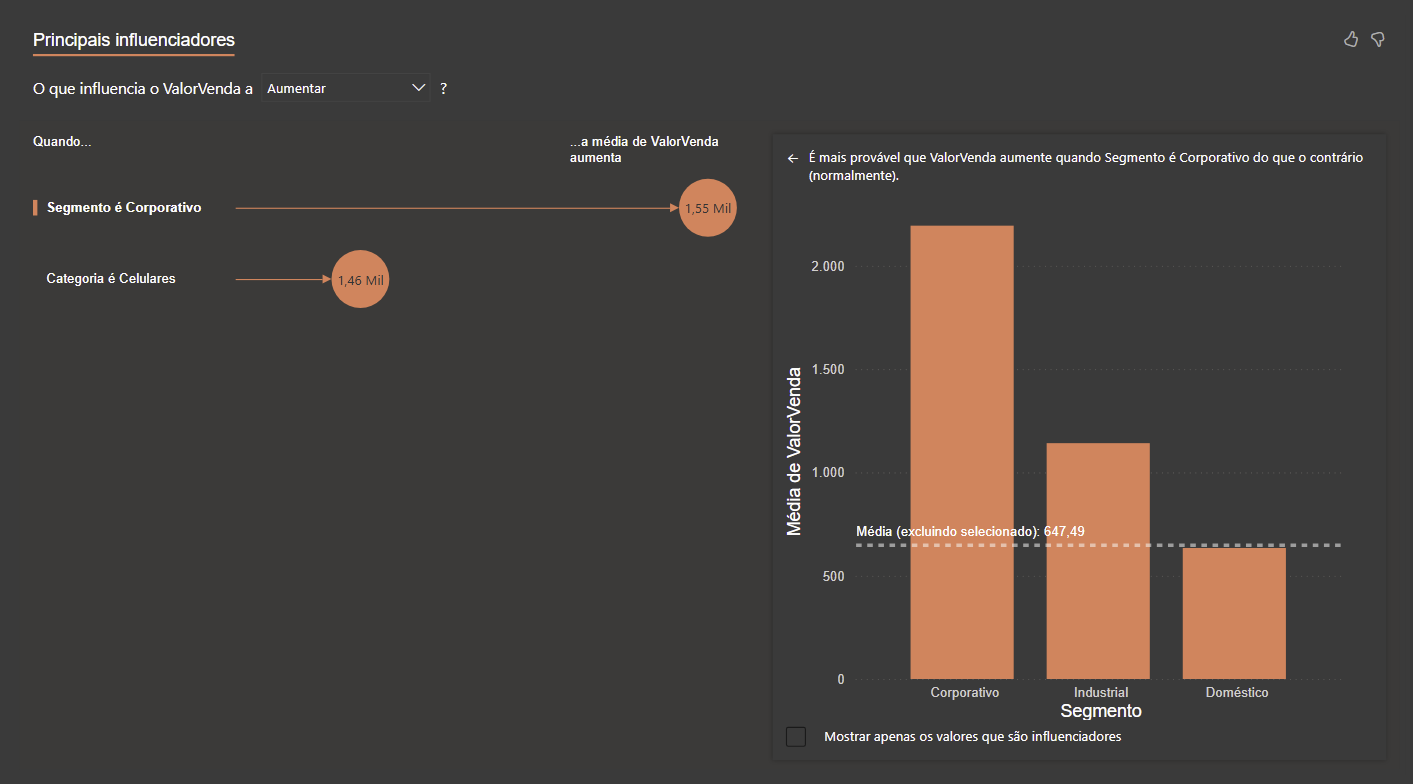

Layout of this report page (visuals, bound fields, positions):
{"tool":"powerbi","page":{"name":"Principais Influenciadores de Vendas","canvas":[1280,720],"ordinal":2},"visuals":[{"type":"keyDriversVisual","title":"Análise","fields":{"Target":["Vendas.ValorVenda"],"ExplainBy":["Vendas.Segmento","Vendas.Categoria"]},"box":[15.9,18.3,1249.3,682.1],"z":0}]}

Visuals, with their boxes in screenshot pixels (x1, y1, x2, y2), scaled from the page's 1280x720 canvas onto the 1413x784 screenshot:
"Análise" keyDriversVisual: [18,20,1397,763]
